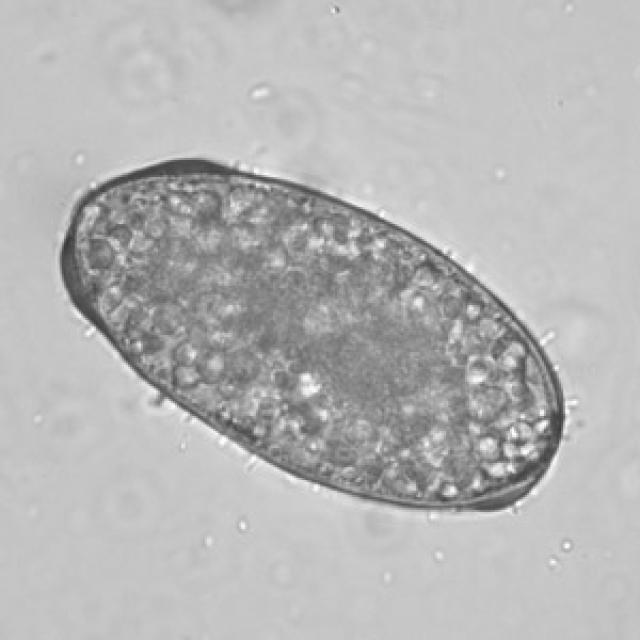Fasciola Hepatica: (55, 141, 572, 535)
